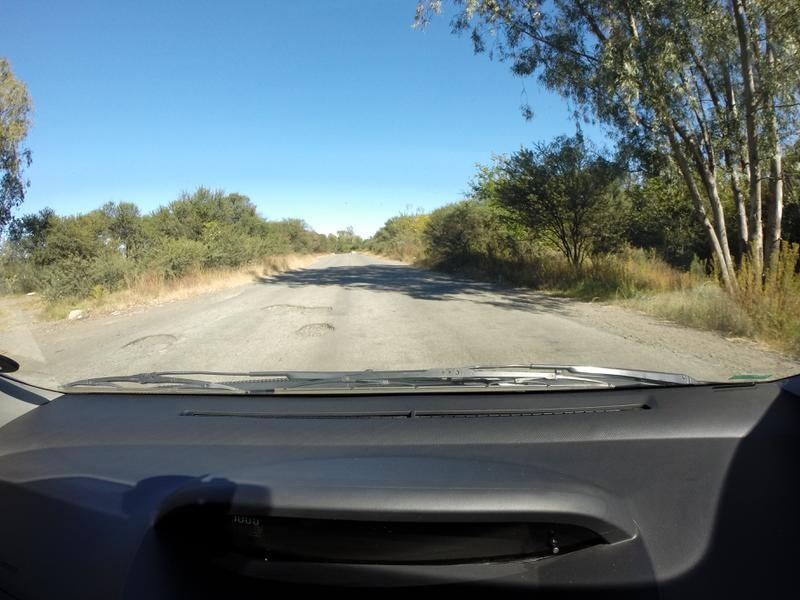pothole: (116, 333, 189, 355), (257, 300, 332, 318), (297, 321, 345, 337)
